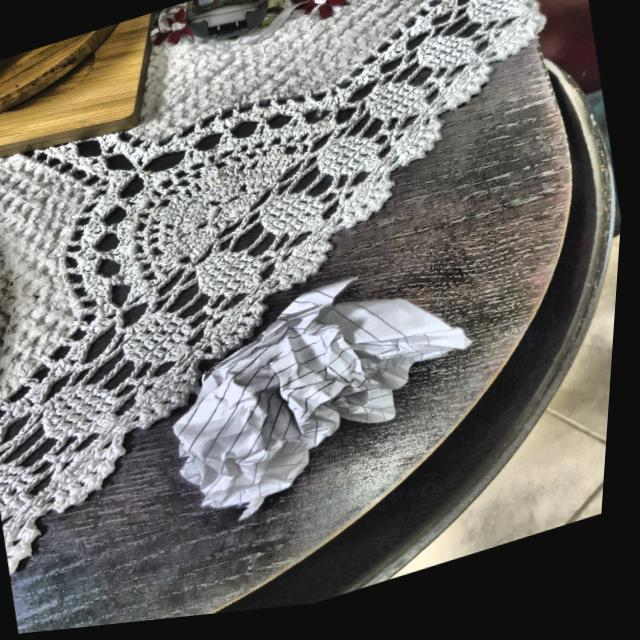Paper: (156, 250, 514, 537)
